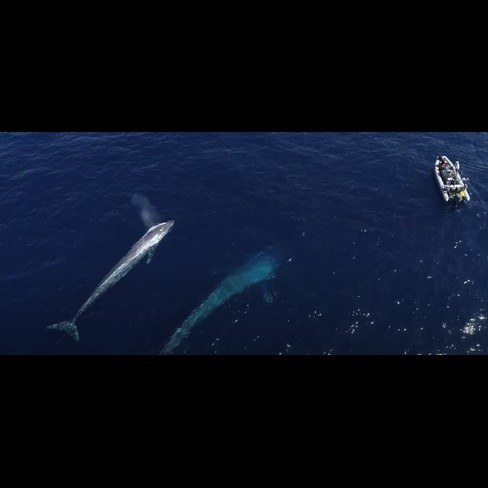bluewhale: (44, 215, 180, 348), (154, 249, 294, 355)
boat: (429, 148, 474, 209)
